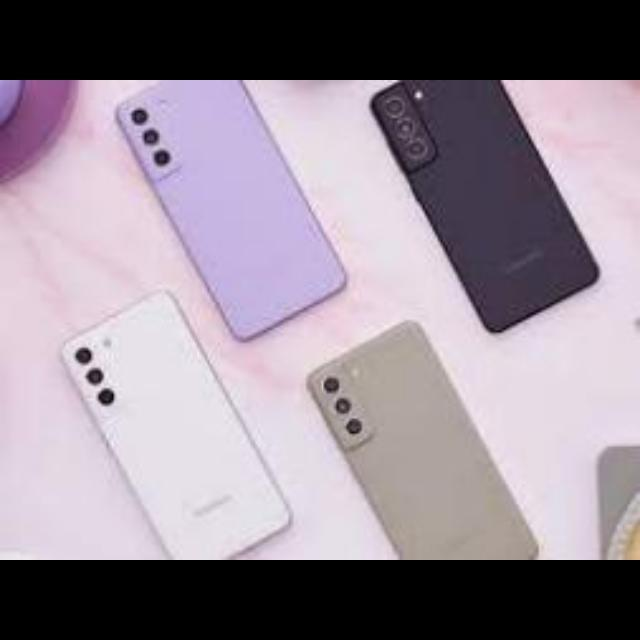phone: (282, 318, 590, 560), (94, 86, 380, 346), (38, 289, 302, 555), (364, 75, 601, 335)
